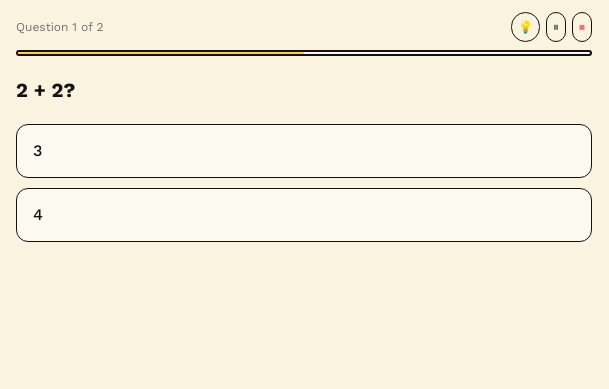
Test: QuizQuestion › resets the hint when moving to the next question
Click the button named "Get a hint": (526, 27) left=511, top=12, right=540, bottom=42
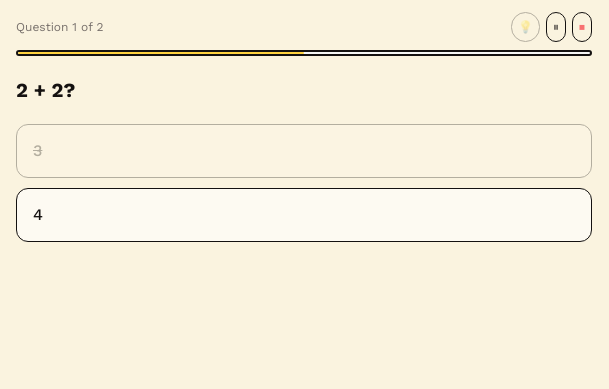
Now the button "3" is disabled, box left=16, top=124, right=592, bottom=178
Click the button "4": (38, 214) left=16, top=188, right=592, bottom=242
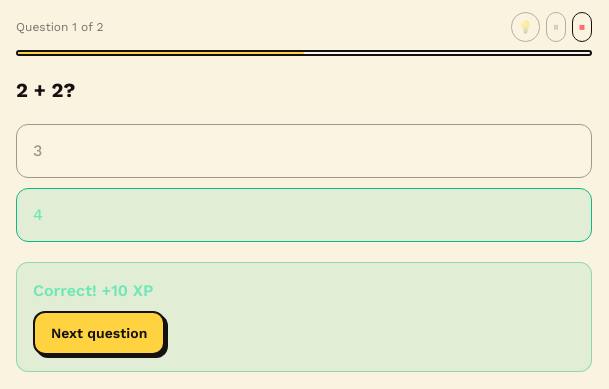
Now the button "Next question" is shown
Click the button "Next question": (99, 333) left=33, top=311, right=165, bottom=355
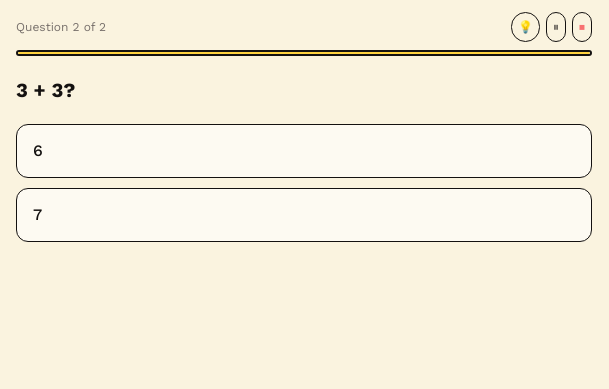
Now the button "6" is enabled, box left=16, top=124, right=592, bottom=178
Now the button "7" is enabled, box left=16, top=188, right=592, bottom=242
